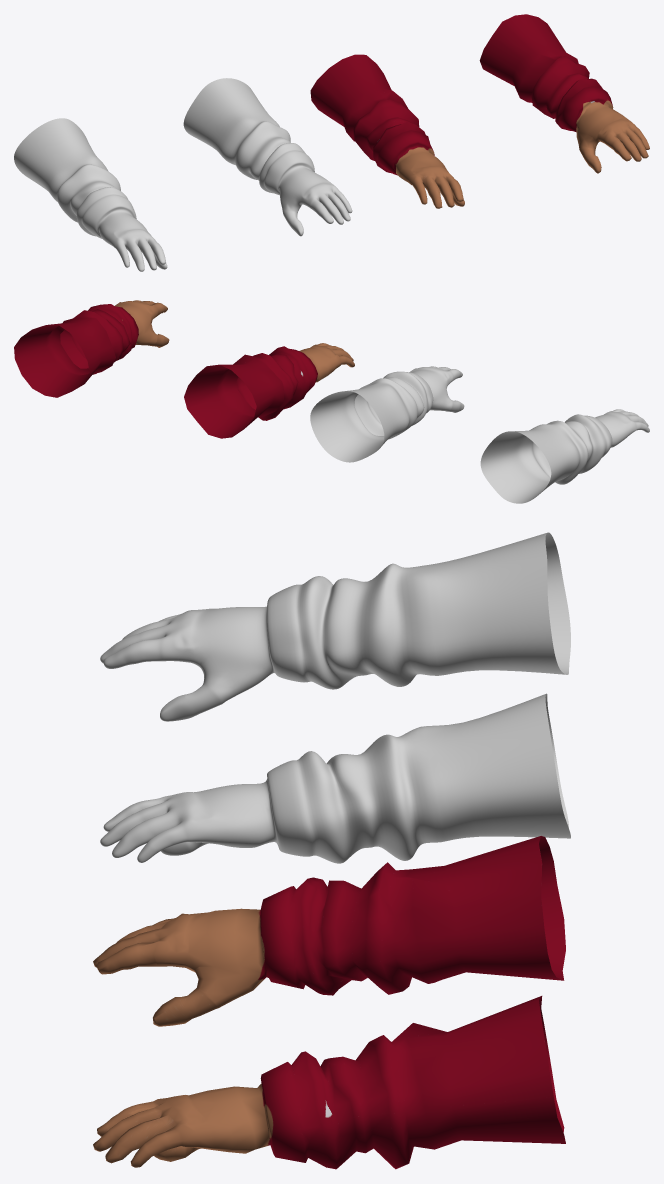
The model's file is arm.fbx.
The picture shows the model from 3 angles, top to bottom: view 1: azimuth 30°, elevation 25°; view 2: azimuth 150°, elevation 25°; view 3: azimuth 270°, elevation 25°; orthographic projection. The views are drawn at different scales.
Parts seen in each view (by area): view 1: node_id4, node_id5; view 2: node_id4, node_id5; view 3: node_id4, node_id5.
Boxes of the visible parts, x1=… form: node_id4: x1=310, y1=14, x2=649, y2=208; node_id5: x1=14, y1=78, x2=352, y2=271; node_id4: x1=14, y1=300, x2=354, y2=438; node_id5: x1=310, y1=366, x2=649, y2=503; node_id4: x1=93, y1=836, x2=565, y2=1169; node_id5: x1=100, y1=532, x2=570, y2=863.
Size of the model in its own units: 0.512 by 0.0843 by 0.1975.
2 materials, 1 textured.
